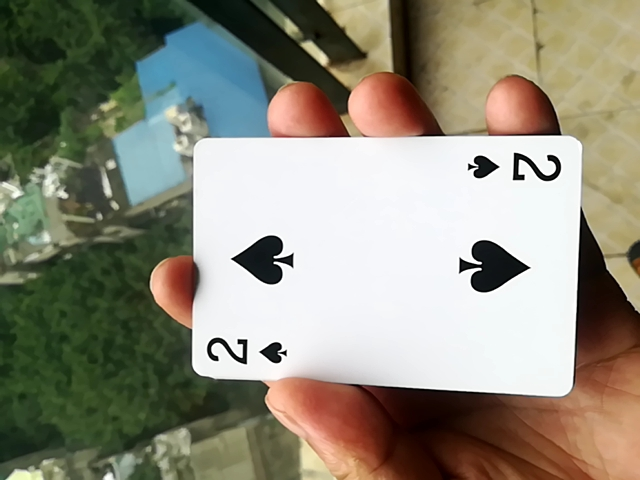ht 2: (179, 131, 577, 404)
